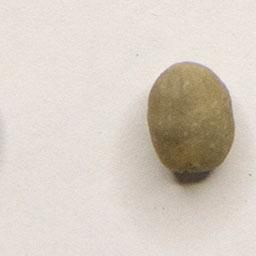peaberry: (144, 58, 237, 184)
